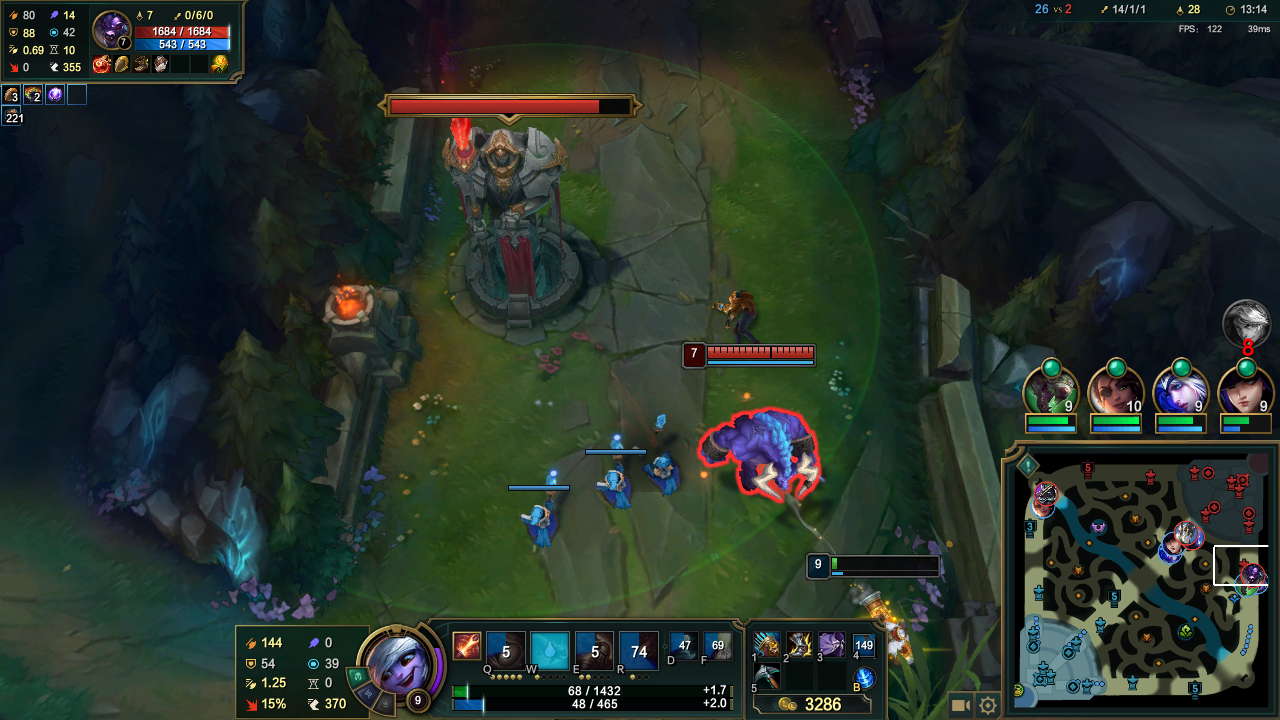DFFYT: (410, 86, 598, 321)
WFXB: (506, 466, 565, 544), (587, 436, 638, 513)
Yita: (1183, 673, 1210, 706)
